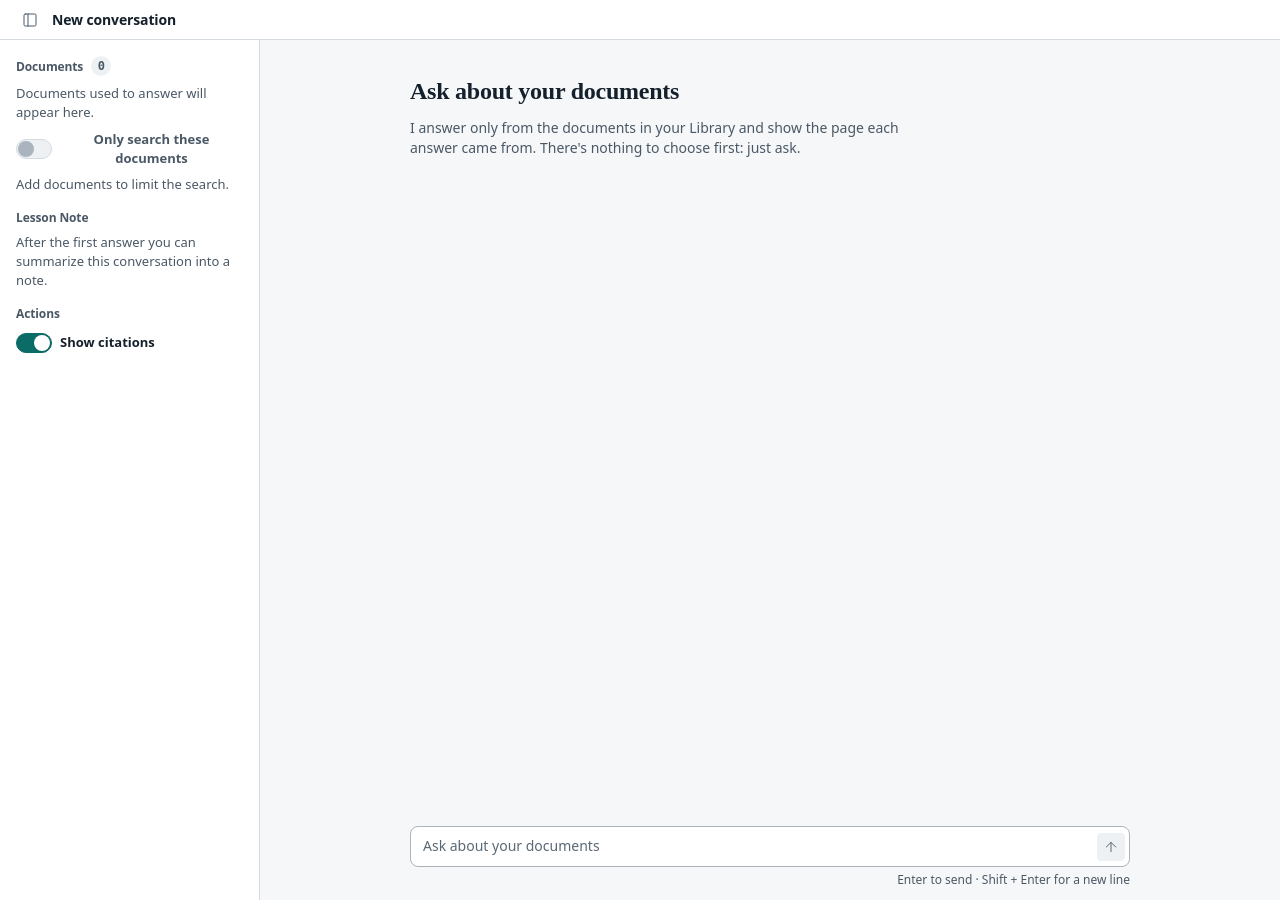
it: ChatPage › shows one Sources line whose chip carries the full citation in its title
In the text box named "question": {"x": 750, "y": 846} [411,827,1089,866], type "How does ReAct work?"
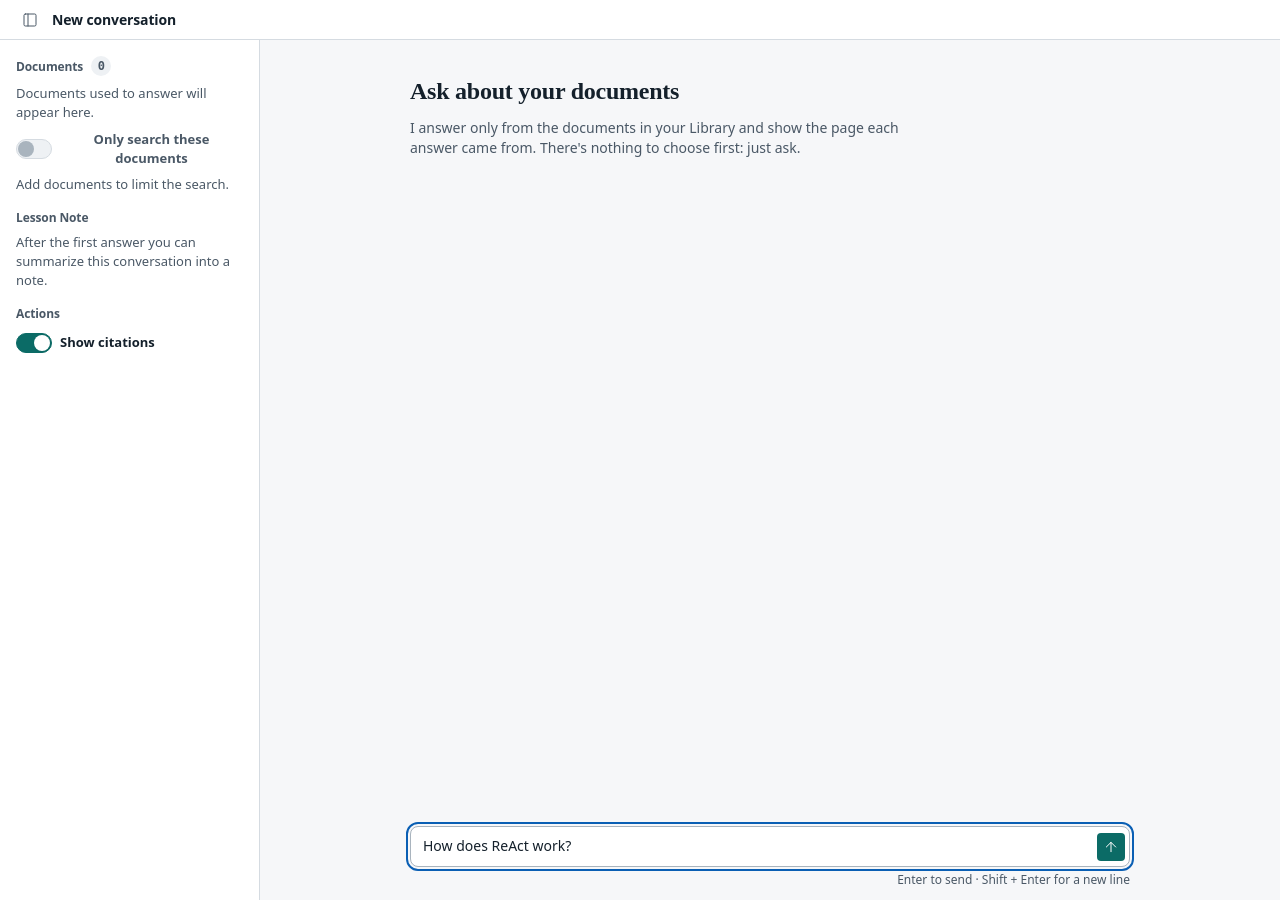
Click the button named "ask": {"x": 1111, "y": 847} [1097,833,1125,861]
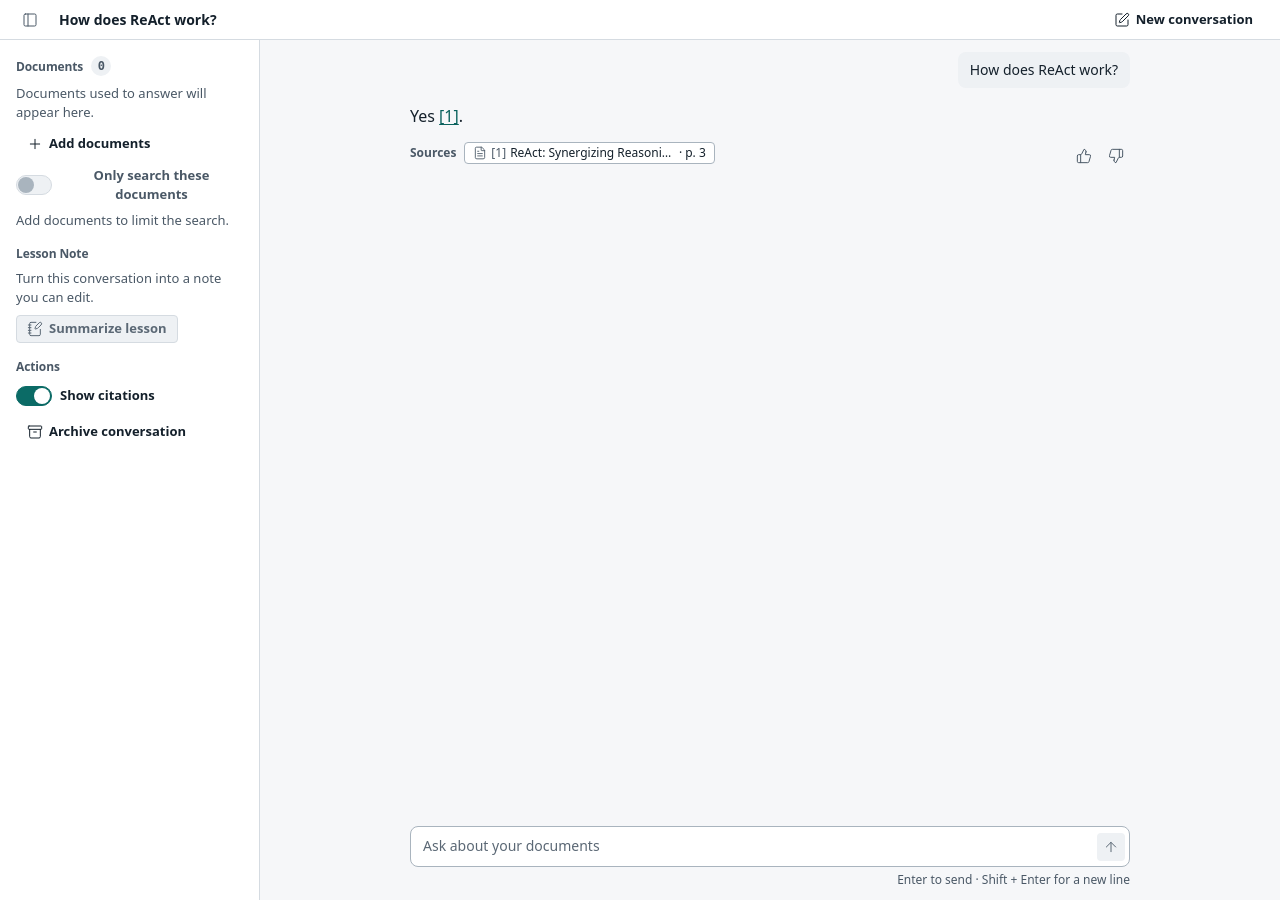
Check: the text "Sources" is shown, box [410,142,456,164]
